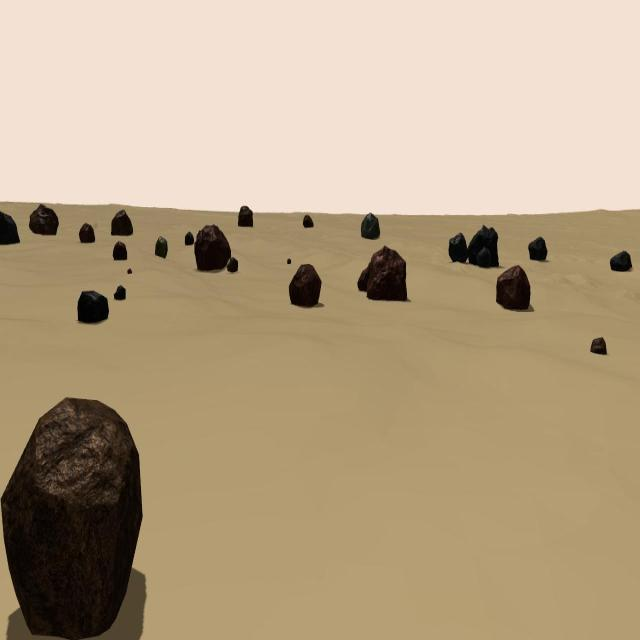rock: (0, 396, 142, 635), (367, 246, 407, 301), (496, 262, 531, 312), (195, 223, 231, 270), (290, 264, 322, 306), (468, 224, 498, 268), (78, 289, 109, 324), (30, 202, 60, 236), (0, 210, 20, 245), (448, 232, 468, 264), (111, 208, 133, 236), (610, 249, 633, 272), (528, 234, 547, 261), (362, 213, 380, 239), (358, 261, 372, 291), (478, 245, 494, 269), (238, 205, 253, 228), (79, 222, 95, 243), (113, 240, 127, 261), (591, 335, 606, 354), (155, 236, 167, 258), (114, 284, 126, 300), (227, 255, 238, 272), (302, 215, 314, 228), (184, 231, 194, 245), (286, 256, 291, 264), (127, 268, 132, 275)
